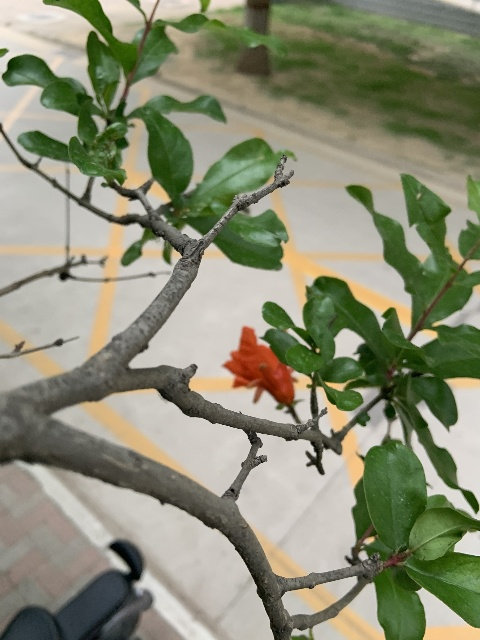flower: (221, 325, 295, 405)
